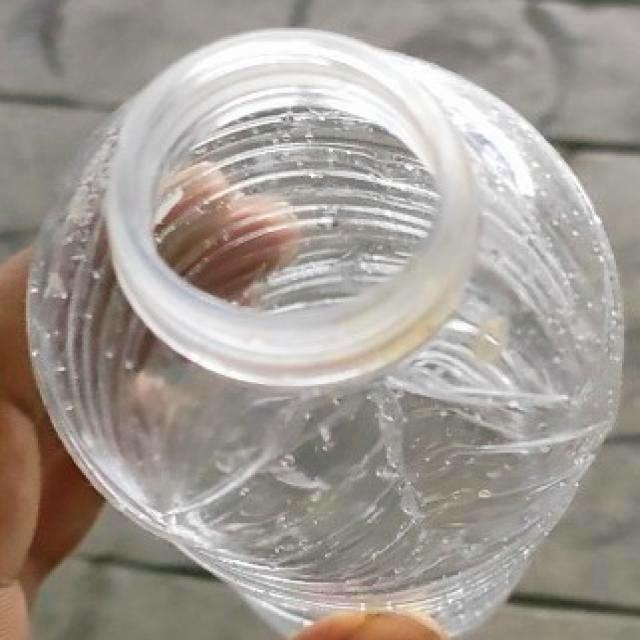bottle: (26, 27, 624, 640)
